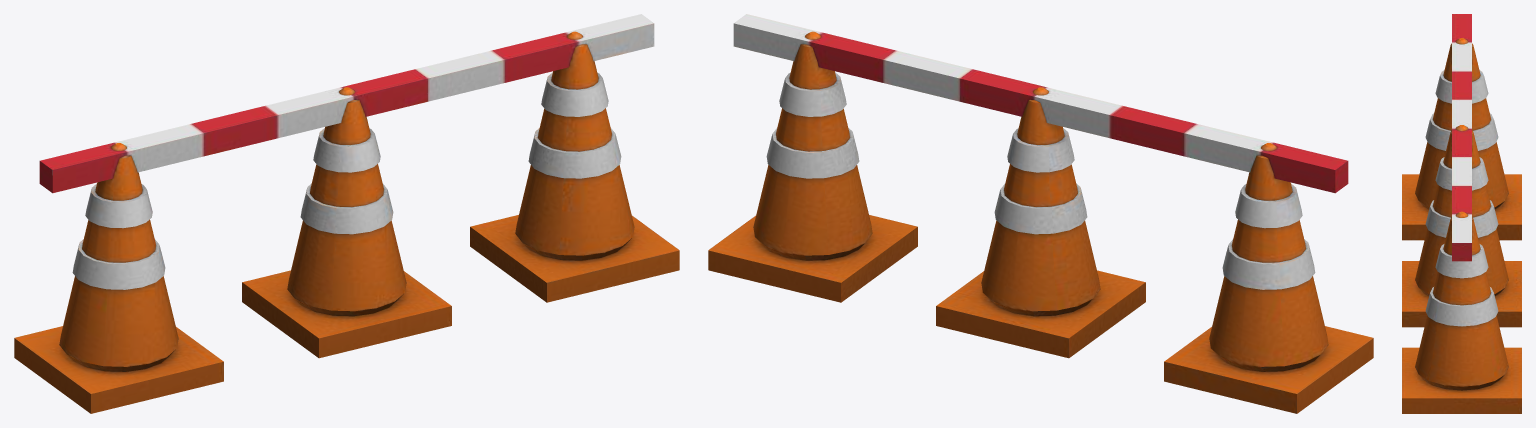
The model's file is conos.glb.
3 views of the same model, side by side, from view 1: azimuth 30°, elevation 25°; view 2: azimuth 150°, elevation 25°; view 3: azimuth 270°, elevation 25° (orthographic). The views are drawn at different scales.
Visible parts, largest first — view 1: conos; view 2: conos; view 3: conos.
Boxes of the visible parts, bbox=[...] form: conos: bbox=[14, 14, 679, 413]; conos: bbox=[708, 14, 1373, 413]; conos: bbox=[1402, 14, 1521, 413].
Size of the model in its own units: 1.9 by 0.68 by 0.42.
1 material, 1 textured.
